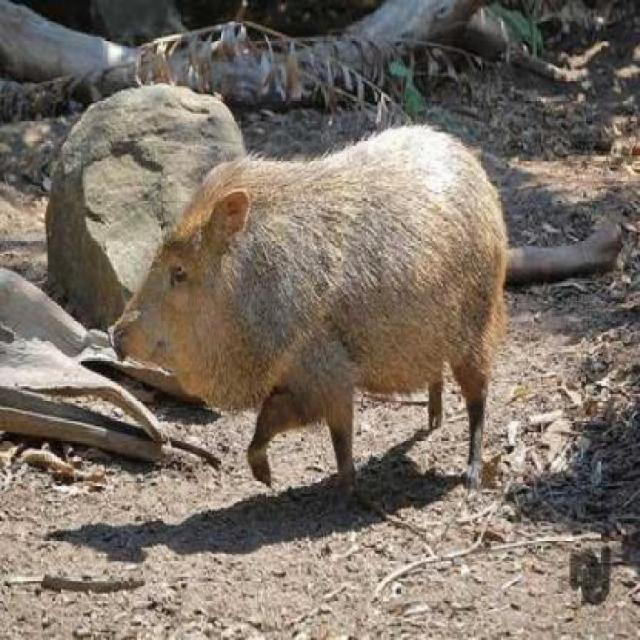pig: (111, 117, 549, 515)
